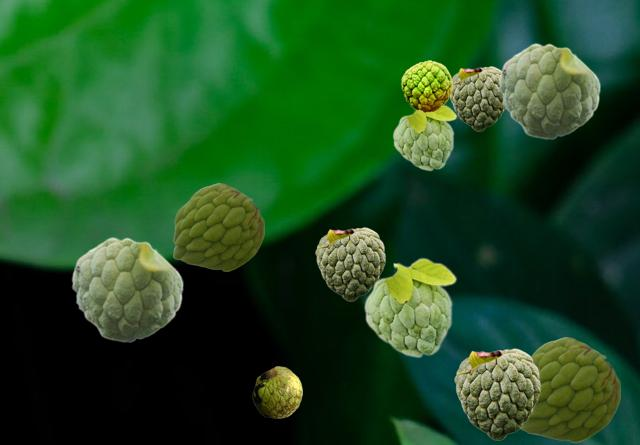atis: (71, 237, 183, 341), (521, 337, 619, 441), (498, 43, 600, 138), (363, 257, 456, 357), (173, 183, 263, 270), (454, 348, 539, 439), (315, 227, 384, 300), (392, 105, 456, 170), (450, 66, 504, 130), (401, 60, 451, 111), (252, 366, 301, 417)
